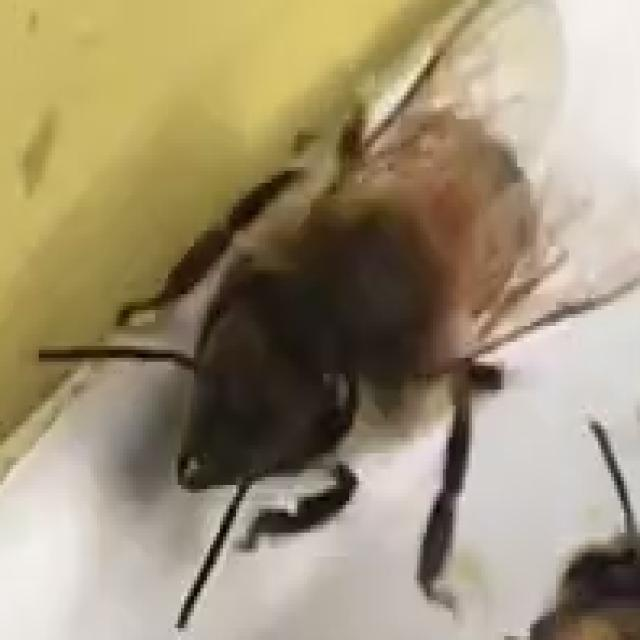honeybee: (37, 27, 537, 630)
